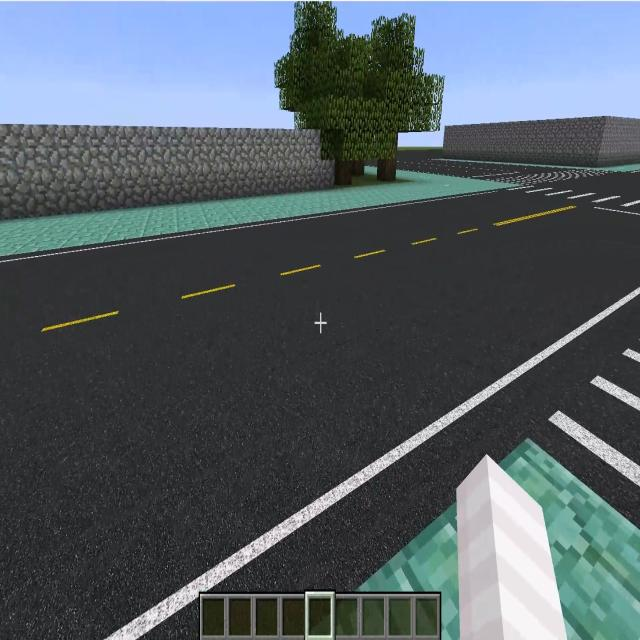crosswalk: (532, 331, 636, 512), (505, 184, 639, 213), (489, 168, 629, 186)
road: (1, 195, 640, 639), (397, 151, 559, 180), (544, 173, 640, 193)
sidewalk: (0, 170, 511, 260), (499, 439, 640, 639), (358, 503, 459, 639)
